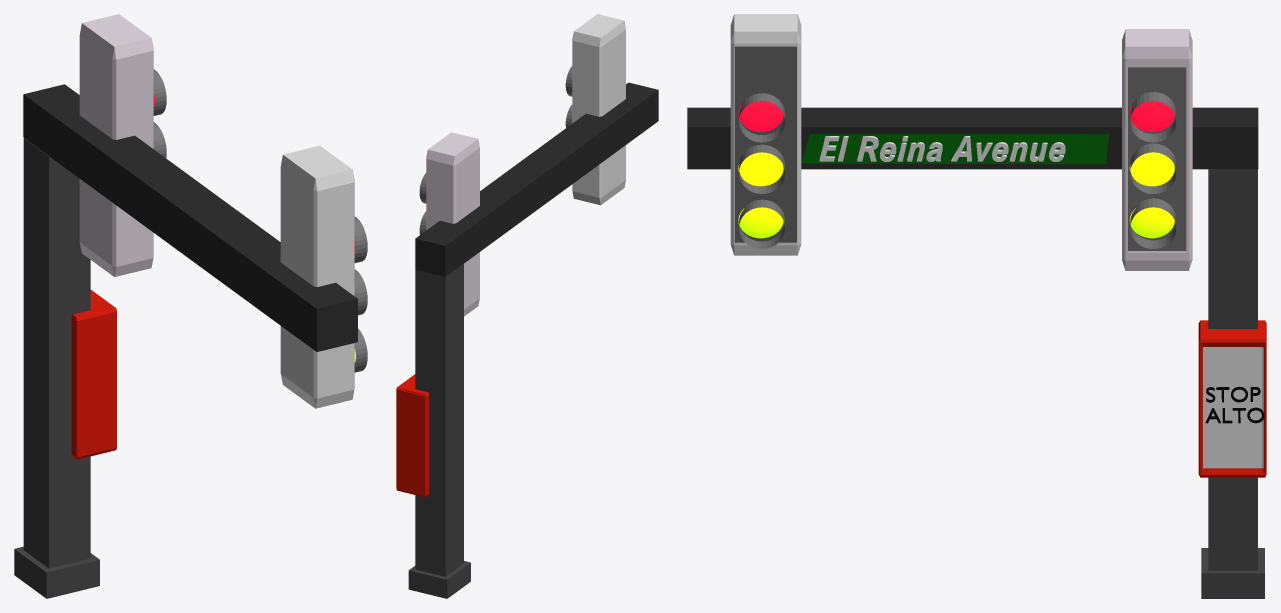
File: traffic_light_2.fbx
3 renders of one model, left to right at view 1: azimuth 30°, elevation 25°; view 2: azimuth 150°, elevation 25°; view 3: azimuth 270°, elevation 25°, orthographic. The views are drawn at different scales.
Visible parts, largest first — view 1: Cube, Cube.002, Cube.001, Cube.003, Cylinder, Cylinder.005; view 2: Cube, Cube.002, Cube.001, Cube.003; view 3: Cube, Cube.002, Cube.001, Cube.003, Text, Sphere.004, Sphere.001, Sphere.003, Sphere.005, Sphere, Sphere.002, Cylinder (+6 smaller).
Boxes of the visible parts, x1,y1,x2,y2 form: Cube: [14, 84, 357, 598]; Cube.002: [280, 145, 354, 408]; Cube.001: [79, 14, 153, 276]; Cube.003: [71, 290, 116, 459]; Cylinder: [153, 69, 166, 115]; Cylinder.005: [354, 216, 367, 262]; Cube: [408, 82, 658, 598]; Cube.002: [572, 14, 625, 205]; Cube.001: [426, 132, 479, 316]; Cube.003: [396, 374, 429, 497]; Cube: [687, 107, 1264, 598]; Cube.002: [730, 14, 801, 255]; Cube.001: [1122, 29, 1192, 270]; Cube.003: [1198, 320, 1266, 477]; Text: [819, 136, 1065, 161]; Sphere.004: [738, 152, 783, 186]; Sphere.001: [1129, 152, 1174, 186]; Sphere.003: [738, 207, 783, 238]; Sphere.005: [738, 101, 783, 131]; Sphere: [1129, 101, 1174, 131]; Sphere.002: [1129, 207, 1174, 238]; Cylinder: [1130, 92, 1176, 142].
Bounding box in the file's own units: 406 × 2730 × 2500.
